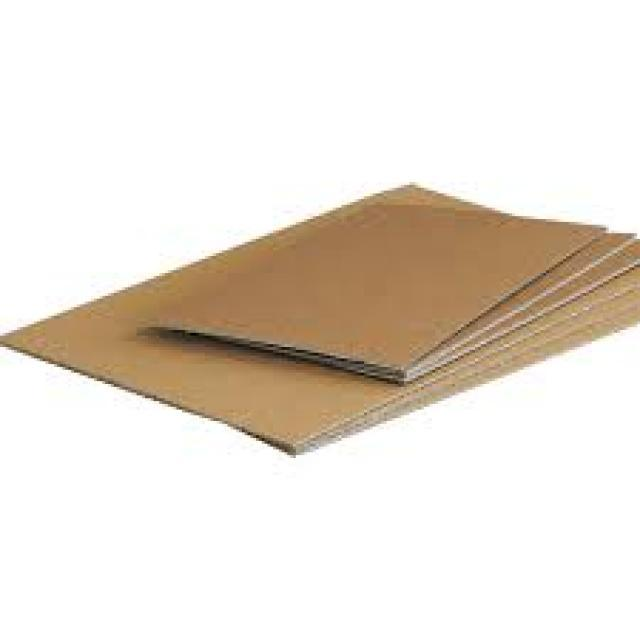Cardboard Paper: (0, 122, 640, 502)
